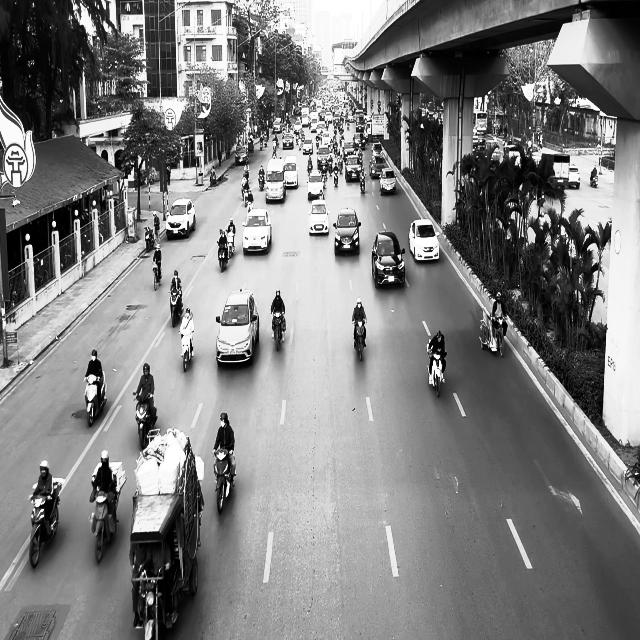car: (215, 288, 259, 367), (371, 231, 406, 288), (242, 208, 272, 255), (408, 218, 439, 262), (333, 208, 361, 255), (166, 198, 196, 240), (307, 199, 330, 235), (282, 154, 298, 188), (306, 170, 324, 200), (379, 168, 396, 195), (568, 164, 580, 189), (234, 145, 248, 164)
motorbike: (89, 469, 126, 563), (28, 479, 64, 569), (213, 446, 235, 514), (132, 391, 157, 449), (83, 371, 107, 427), (479, 312, 507, 357), (426, 342, 447, 398), (179, 328, 194, 372), (352, 319, 367, 361), (271, 310, 285, 351), (169, 287, 183, 327), (216, 240, 229, 271), (152, 260, 162, 291), (144, 226, 155, 252), (226, 231, 235, 257), (359, 170, 366, 192)
truck: (129, 427, 204, 639)
